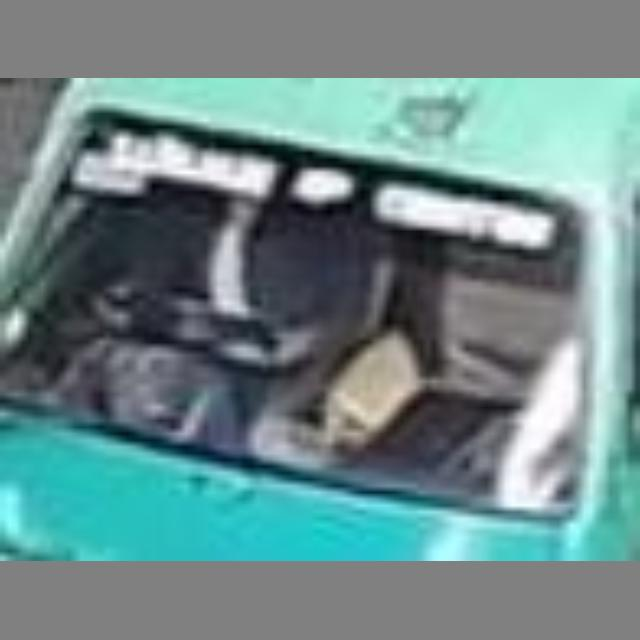tidak-pakai: (104, 196, 353, 359)
